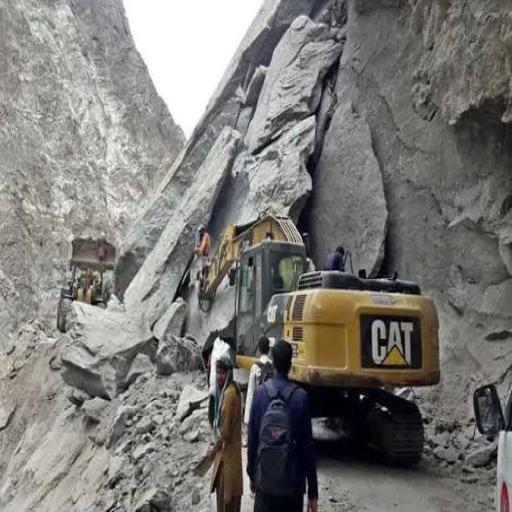Landslide: (96, 10, 380, 362)
